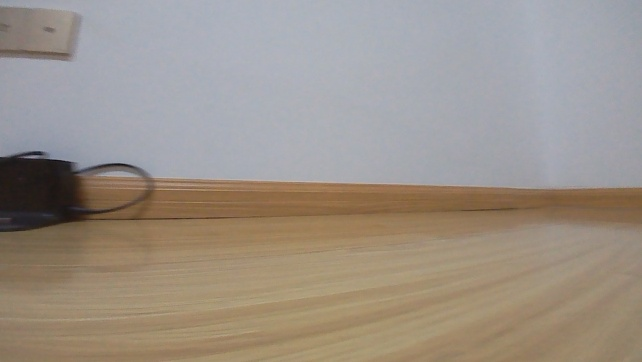wire: (67, 161, 157, 216), (0, 146, 50, 161)
